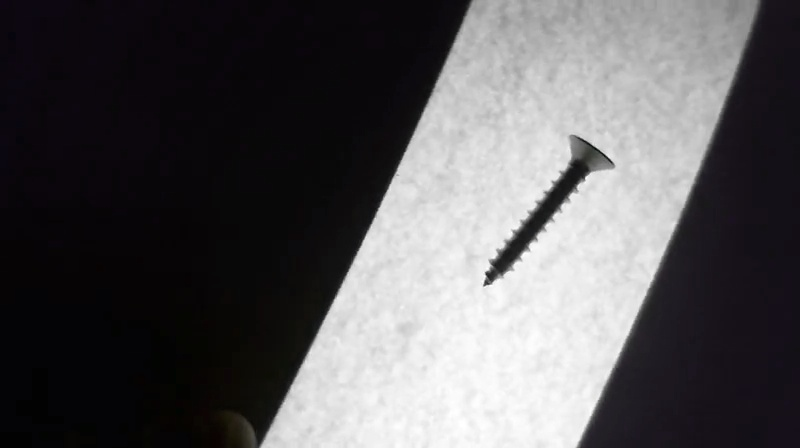S001: (477, 131, 618, 292)
